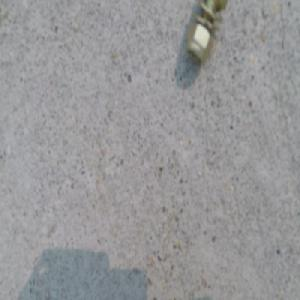BoltNutSet: (187, 0, 220, 63)
